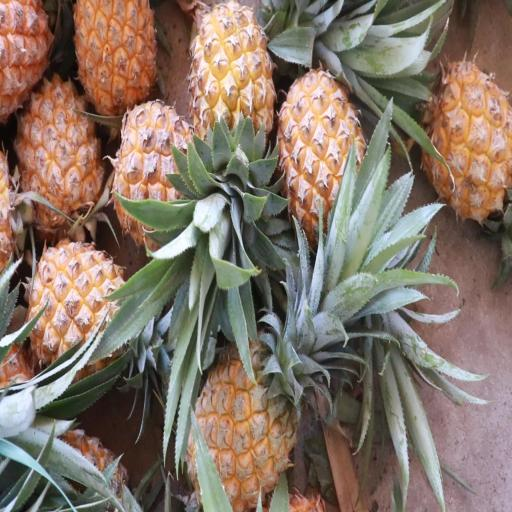Pineapple - v8 v1: (181, 324, 330, 511), (271, 65, 372, 252), (186, 0, 278, 197), (26, 228, 140, 386), (110, 92, 212, 261), (15, 62, 111, 238), (420, 47, 512, 229), (74, 0, 164, 130)
